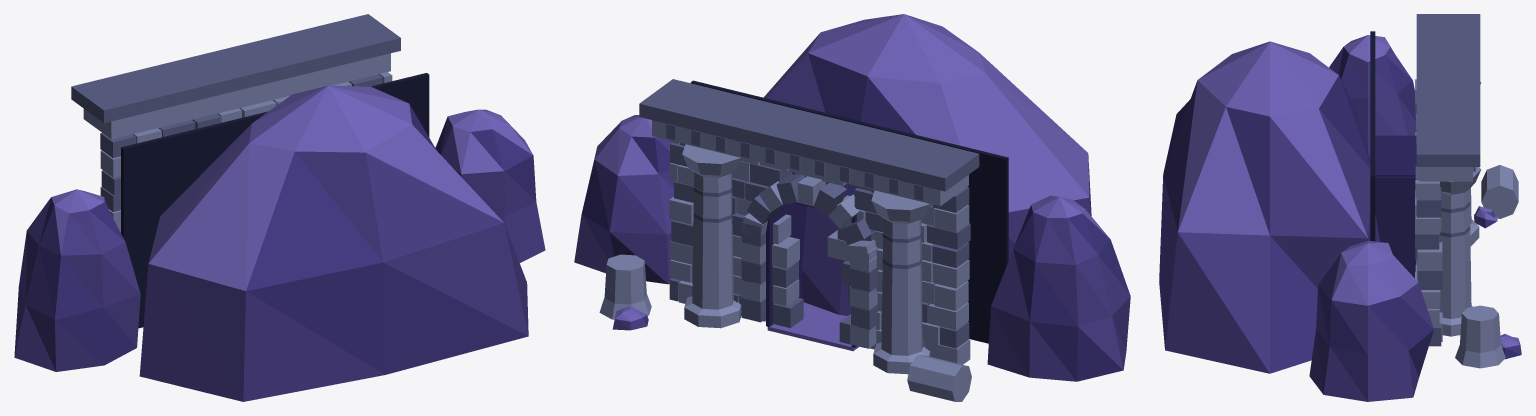
Rendered from Mine_Door_Stone_Arch.obj.
3 views of the same model, side by side, from view 1: azimuth 30°, elevation 25°; view 2: azimuth 150°, elevation 25°; view 3: azimuth 270°, elevation 25° (orthographic). The views are drawn at different scales.
Visible parts, largest first — view 1: Mine_Door_Stone_Arch; view 2: Mine_Door_Stone_Arch; view 3: Mine_Door_Stone_Arch.
Boxes of the visible parts, bbox=[...] form: Mine_Door_Stone_Arch: bbox=[14, 14, 545, 401]; Mine_Door_Stone_Arch: bbox=[574, 14, 1130, 401]; Mine_Door_Stone_Arch: bbox=[1159, 14, 1521, 401].
Bounding box in the file's own units: 11.96 × 5.48 × 7.41.
